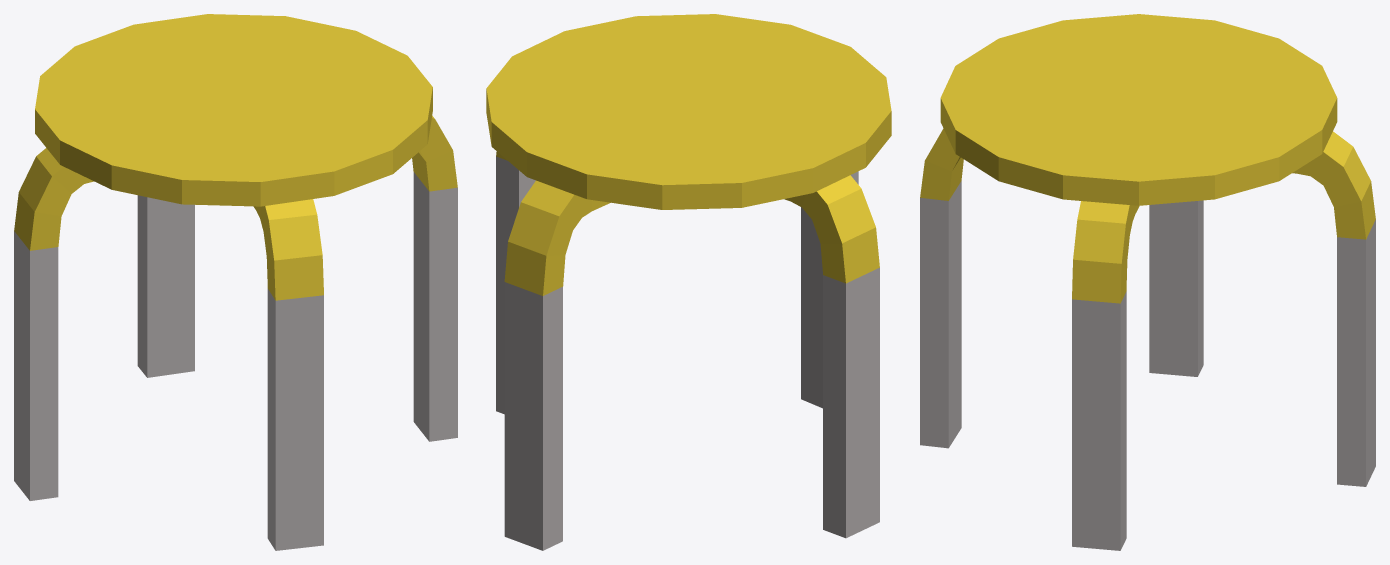
The model's file is Chair_2.fbx.
The picture shows the model from 3 angles, left to right: view 1: azimuth 30°, elevation 25°; view 2: azimuth 150°, elevation 25°; view 3: azimuth 270°, elevation 25°; orthographic projection. The views are drawn at different scales.
Parts seen in each view (by area): view 1: Circle; view 2: Circle; view 3: Circle.
Part boxes in pixels (x1,y1,x2,y2): Circle: (14, 14, 457, 550); Circle: (486, 14, 891, 550); Circle: (920, 14, 1375, 550).
Size of the model in its own units: 275 by 241 by 279.
